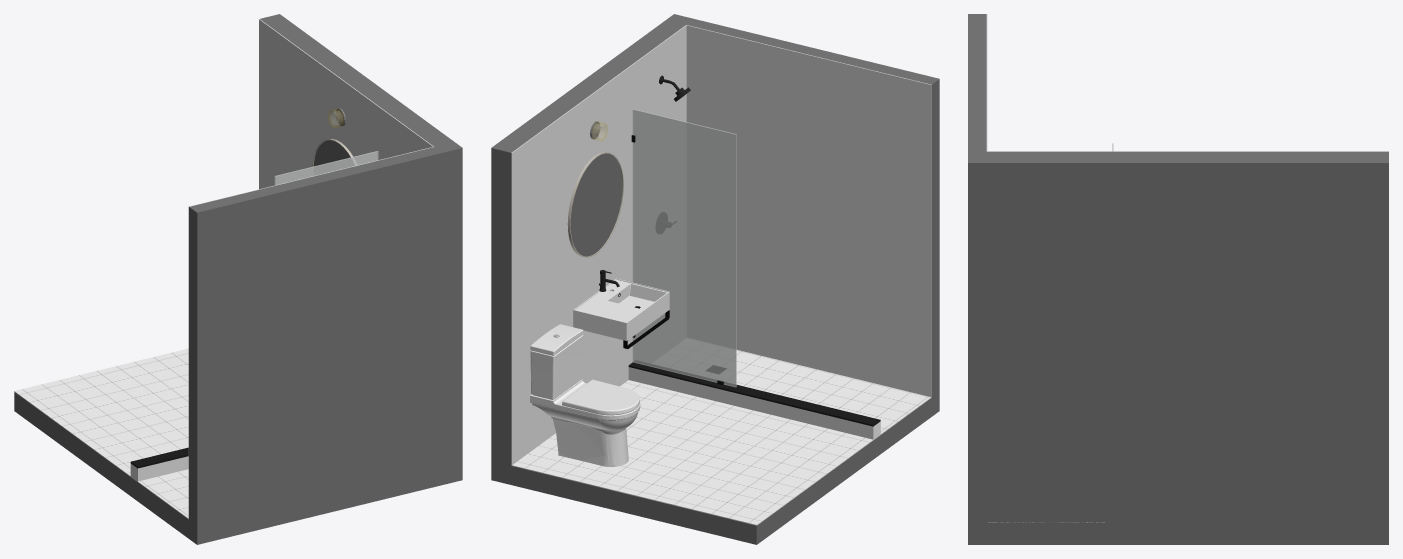
3 views of the same model, side by side, from view 1: azimuth 30°, elevation 25°; view 2: azimuth 150°, elevation 25°; view 3: azimuth 270°, elevation 25° (orthographic). The views are drawn at different scales.
Parts seen in each view (by area): view 1: 3DGeom-62, 3DGeom-55, 3DGeom-29, 3DGeom-63, 3DGeom-30, 3DGeom-28, 3DGeom-32, 3DGeom-52, 3DGeom-57, 3DGeom-54; view 2: 3DGeom-54, 3DGeom-55, 3DGeom-32, 3DGeom-29, 3DGeom-63, 3DGeom-30, 3DGeom-28, 3DGeom-62, 3DGeom-27, 3DGeom-52, 3DGeom-3, 3DGeom-56 (+5 smaller); view 3: 3DGeom-63, 3DGeom-30, 3DGeom-62.
Boxes of the visible parts, bbox=[...] form: 3DGeom-62: bbox=[189, 147, 442, 525]; 3DGeom-55: bbox=[259, 19, 433, 189]; 3DGeom-29: bbox=[14, 348, 188, 476]; 3DGeom-63: bbox=[260, 14, 462, 465]; 3DGeom-30: bbox=[14, 392, 462, 544]; 3DGeom-28: bbox=[137, 469, 188, 519]; 3DGeom-32: bbox=[274, 151, 378, 185]; 3DGeom-52: bbox=[313, 140, 354, 174]; 3DGeom-57: bbox=[137, 456, 188, 481]; 3DGeom-54: bbox=[188, 146, 433, 519]; 3DGeom-54: bbox=[686, 25, 931, 397]; 3DGeom-55: bbox=[511, 25, 686, 464]; 3DGeom-32: bbox=[632, 109, 736, 387]; 3DGeom-29: bbox=[511, 380, 873, 525]; 3DGeom-63: bbox=[491, 14, 693, 465]; 3DGeom-30: bbox=[491, 392, 939, 544]; 3DGeom-28: bbox=[652, 338, 931, 435]; 3DGeom-62: bbox=[686, 19, 939, 397]; 3DGeom-27: bbox=[573, 278, 669, 340]; 3DGeom-52: bbox=[570, 153, 622, 256]; 3DGeom-3: bbox=[530, 324, 640, 462]; 3DGeom-56: bbox=[628, 367, 873, 439]; 3DGeom-63: bbox=[968, 151, 1388, 522]; 3DGeom-30: bbox=[968, 523, 1388, 544]; 3DGeom-62: bbox=[968, 14, 986, 151].
Bounding box in the file's own units: 2.17 × 2.59 × 2.59.
